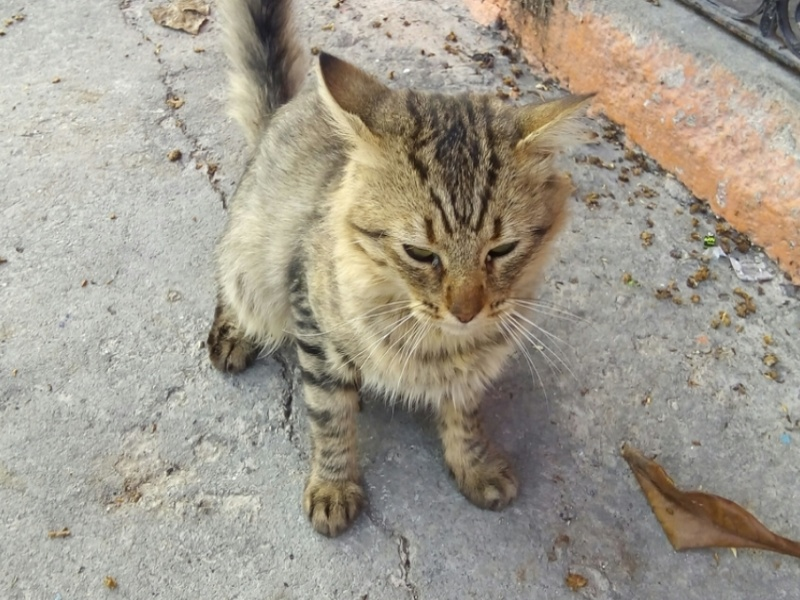cat: (196, 1, 559, 543)
